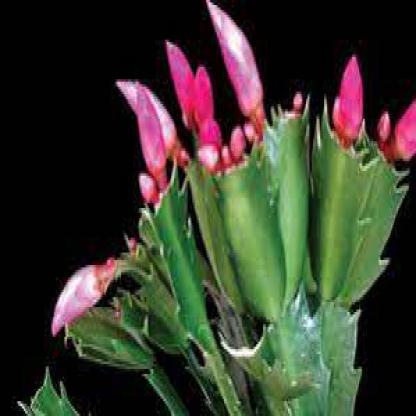Aglonema: (22, 57, 389, 293)
